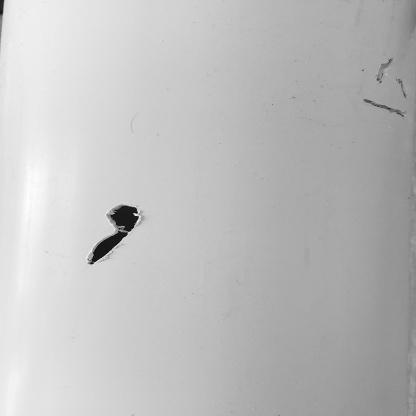kongdong: (87, 201, 143, 269)
sunshang: (379, 51, 415, 95), (359, 93, 409, 122)
